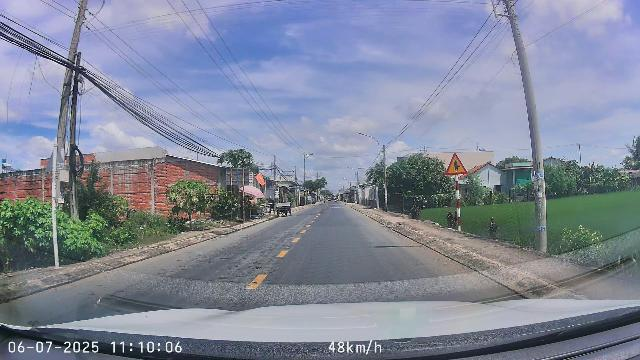207-giao-nhau-voi-duong-khong-uu-tien: (446, 153, 467, 175)
